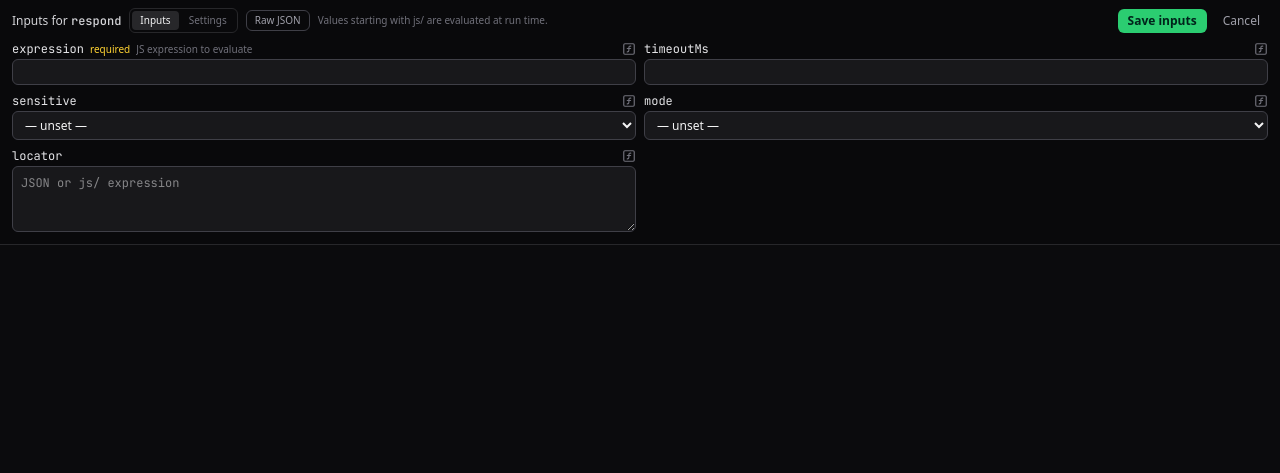
Test: Settings tab › setting `as` clears and disables `spread`, and vice versa, with the reason shown
This screenshot has width=1280, height=473.
Click the tab "Settings": (208, 20) [181,11,235,30]
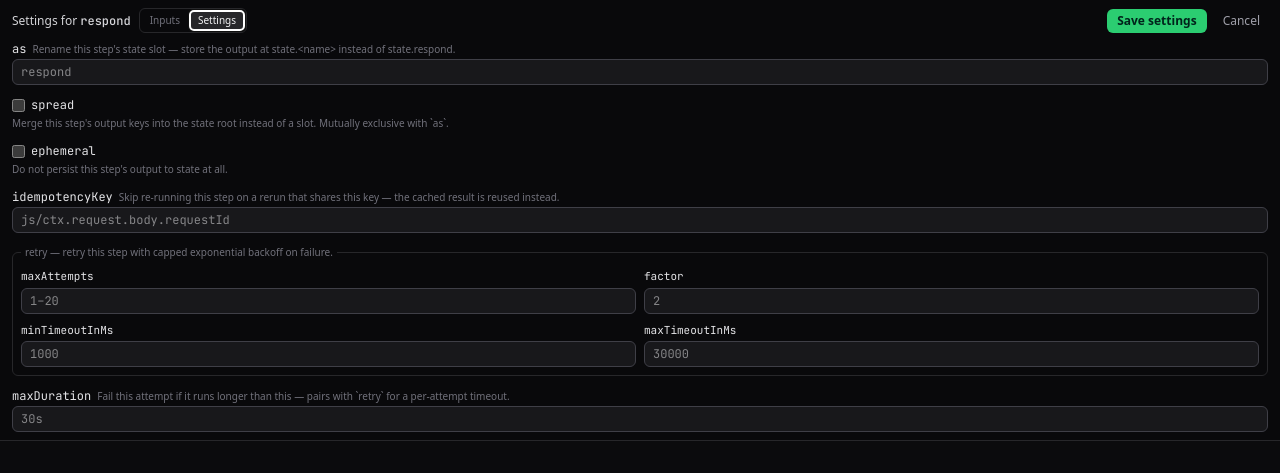
In the field labelled "as": (640, 72) [12,59,1268,85], type "users"
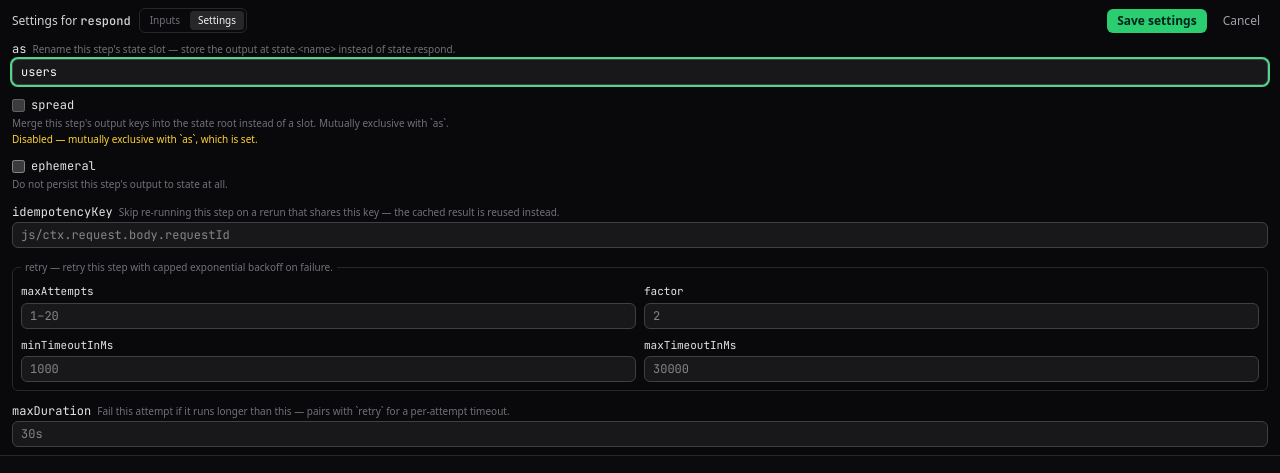
Expected: the checkbox labelled "spread" is disabled, [12,98,25,112]
Expected: the text "Disabled — mutually exclusive with `as`, which is set." is shown, [12,132,258,146]
Clear the field labelled "as": (640, 72) [12,59,1268,85]
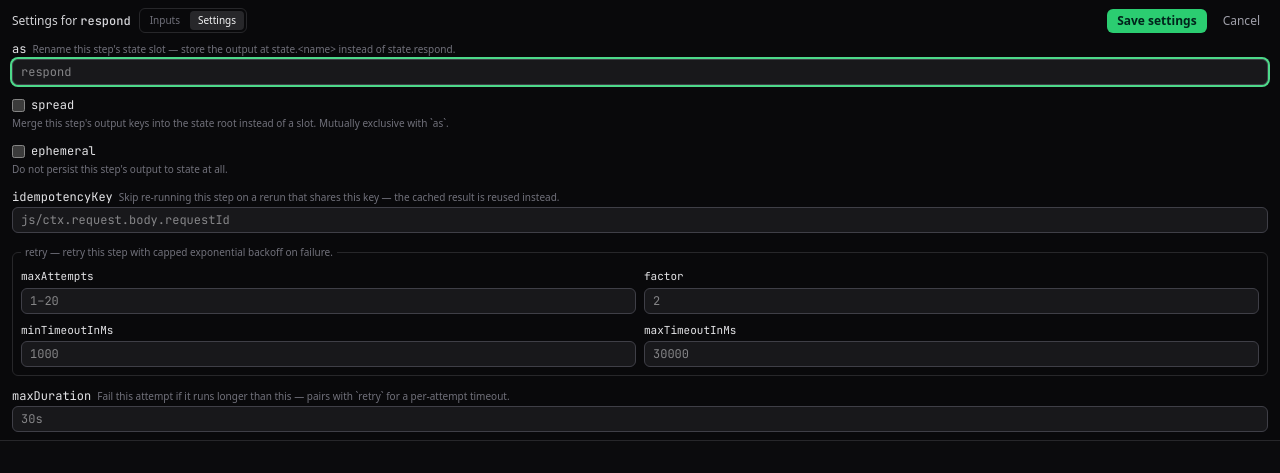
Click the checkbox labelled "spread": (18, 105) [12,98,25,112]
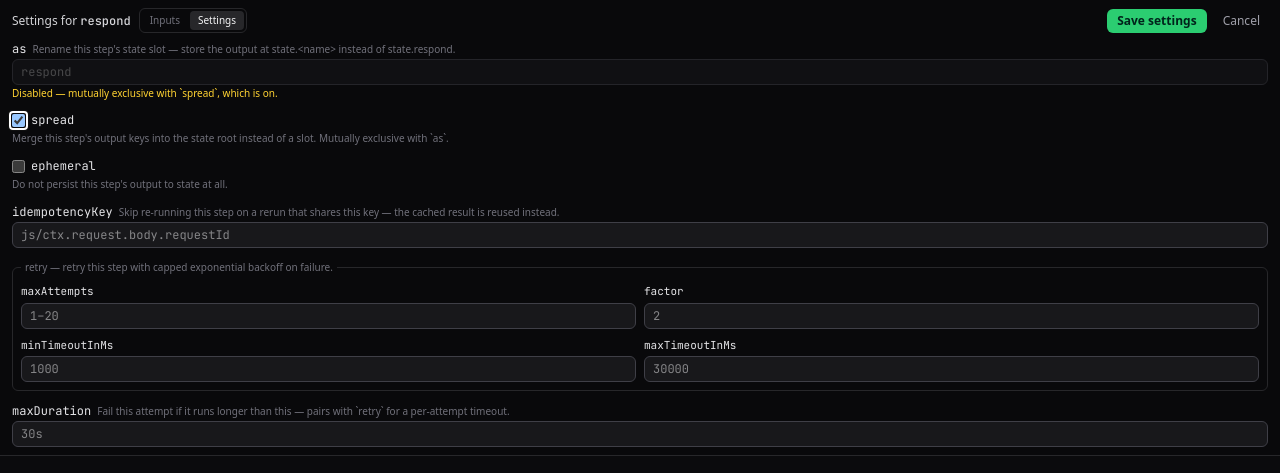
Expected: the checkbox labelled "spread" is checked, [12,114,25,127]
Expected: the field labelled "as" is disabled, [12,59,1268,85]
Expected: the text "Disabled — mutually exclusive with `spread`, which is on." is shown, [12,86,278,100]
